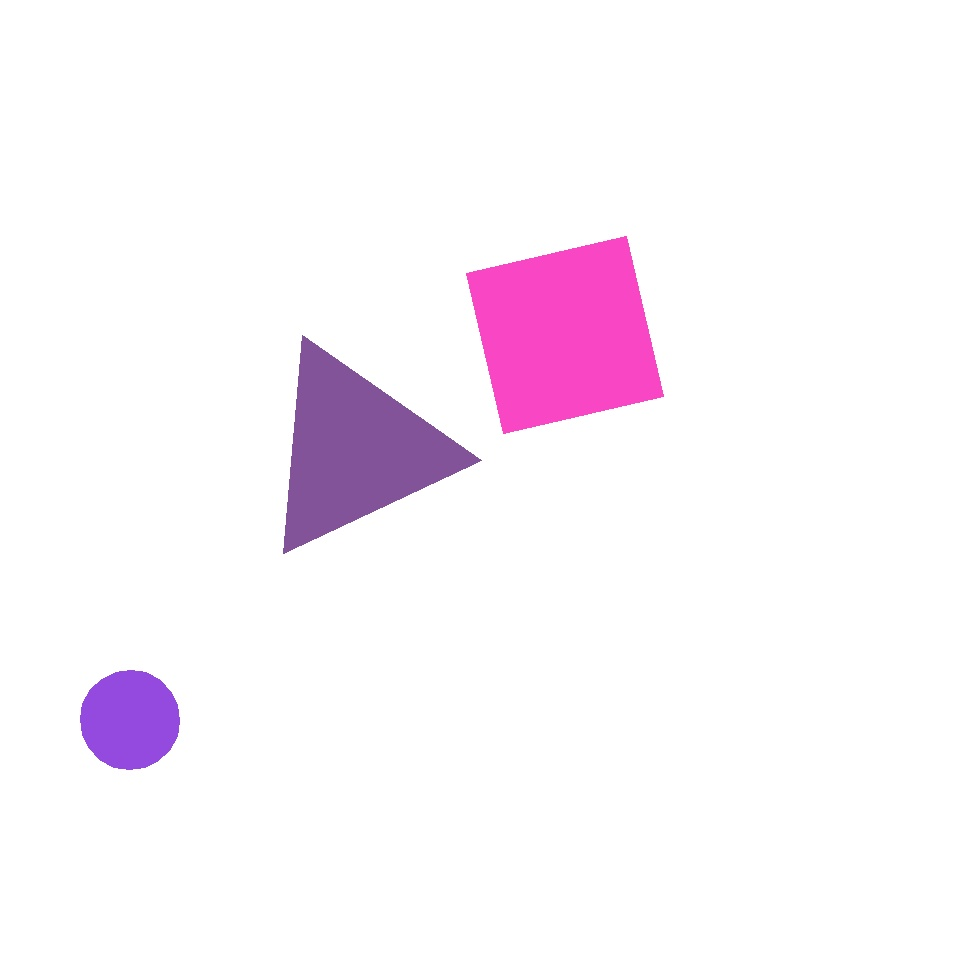circle: (257, 341, 455, 559)
square: (304, 524, 678, 898), (466, 236, 664, 434)
triangle: (56, 266, 174, 386), (80, 670, 179, 770)
